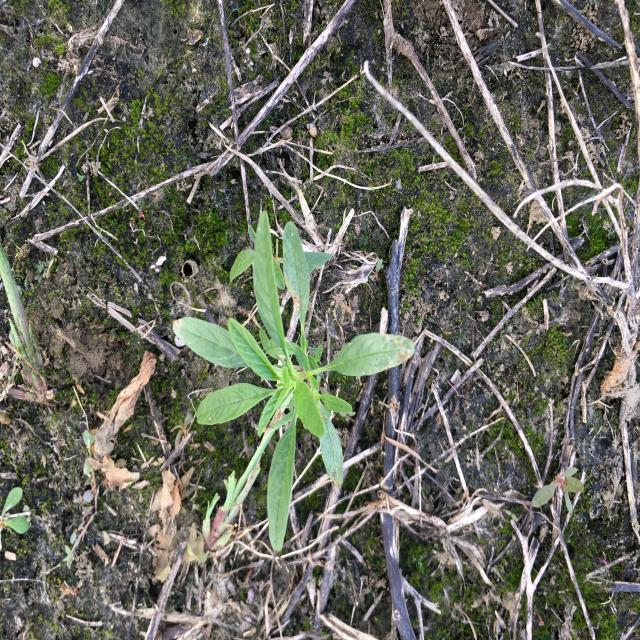Waterhemp: (172, 208, 417, 552), (530, 464, 585, 516)
